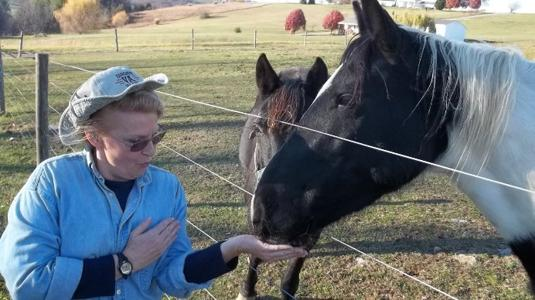person: (3, 66, 316, 300)
